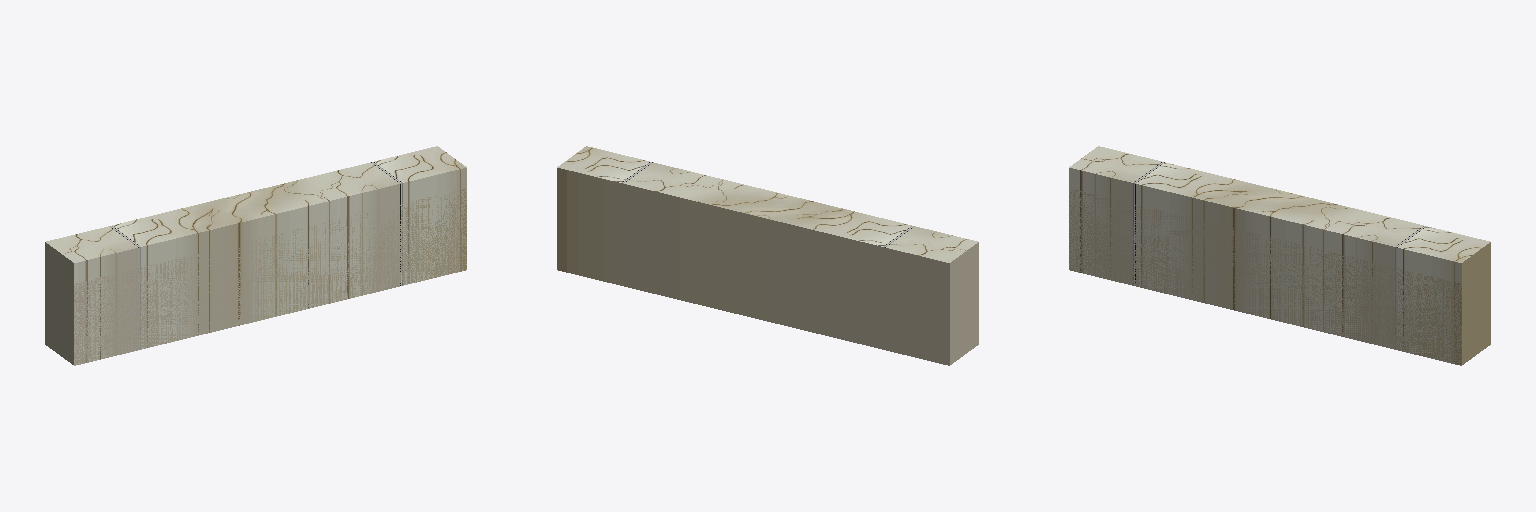
The picture shows the model from 3 angles: view 1: azimuth 30°, elevation 25°; view 2: azimuth 150°, elevation 25°; view 3: azimuth 330°, elevation 25°; orthographic projection.
Parts seen in each view (by area): view 1: Box011; view 2: Box011; view 3: Box011.
Boxes of the visible parts, box(x1,y1,x2,y2) form: Box011: box(45, 146, 466, 365); Box011: box(557, 146, 978, 365); Box011: box(1069, 146, 1490, 365).
Size of the model in its own units: 118 by 29.53 by 15.29.
1 materials, 1 textured.